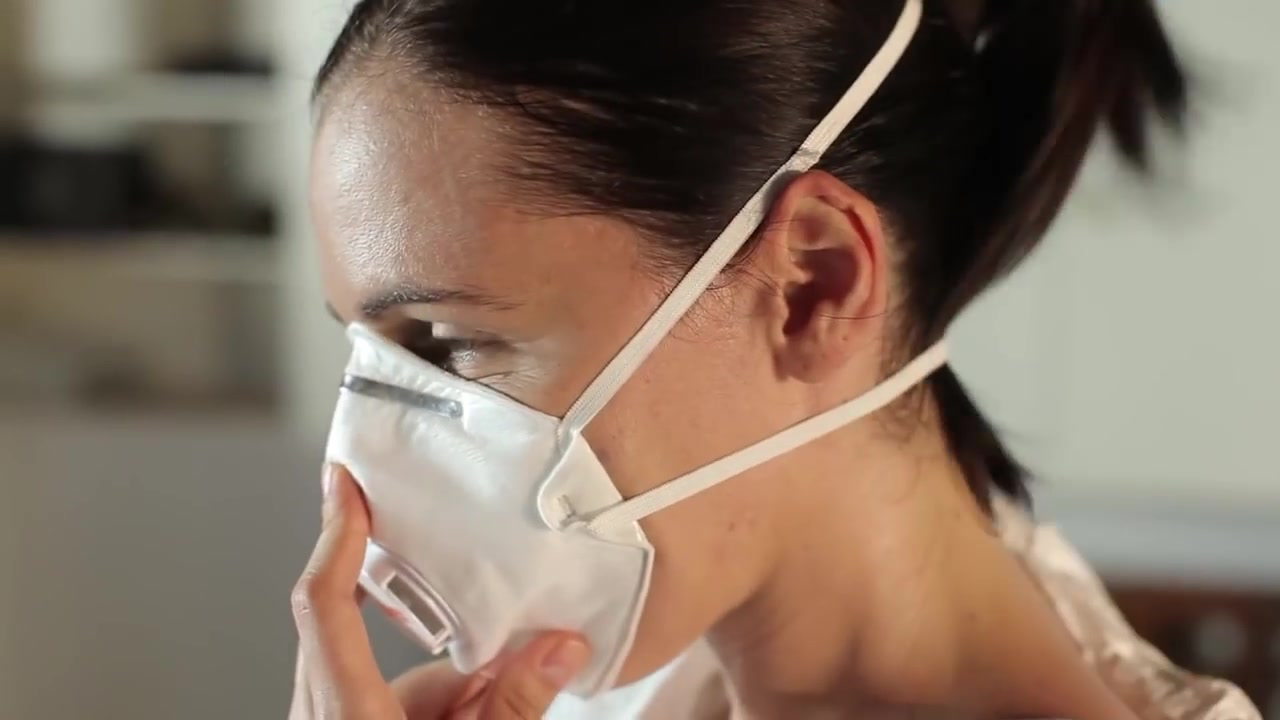with_mask: (305, 294, 658, 698)
